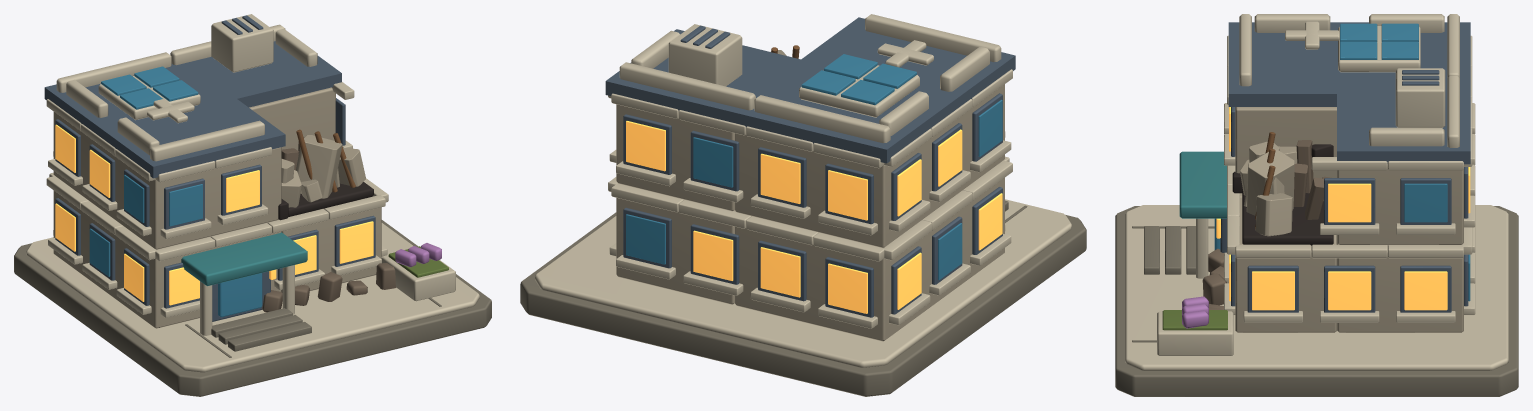
File: civilian-clinic-damaged.glb
3 views of the same model, side by side, from view 1: azimuth 30°, elevation 25°; view 2: azimuth 150°, elevation 25°; view 3: azimuth 270°, elevation 25° (orthographic). The views are drawn at different scales.
Visible parts, largest first — view 1: CivilianShell; view 2: CivilianShell; view 3: CivilianShell.
Part boxes in pixels (<box>): CivilianShell: <box>14,14,491,396</box>; CivilianShell: <box>520,14,1086,396</box>; CivilianShell: <box>1115,14,1518,396</box>.
Size of the model in its own units: 1.98 by 1.38 by 1.98.
